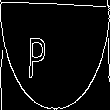P_N: (45, 29, 65, 81)
